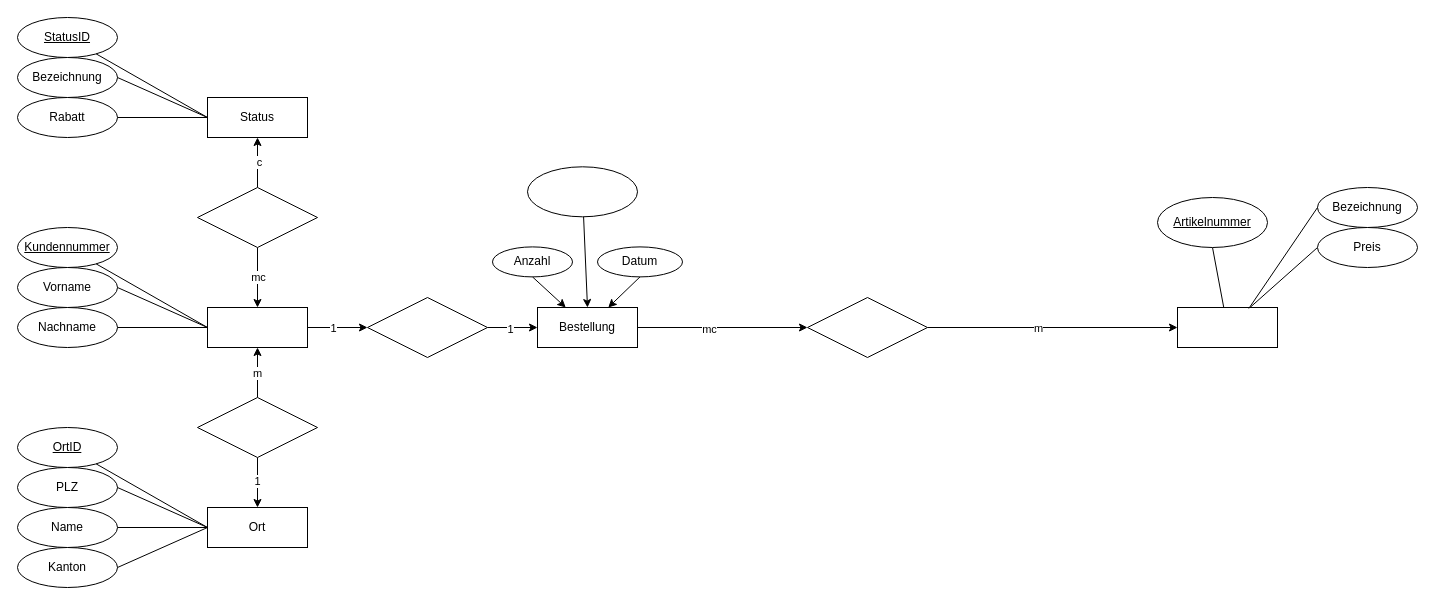
Image size: 1435x605. Some labels were removed from this diagram. The centre of each missing label's shape, as x and y in pixels:
"Artikel" goes at (x=1227, y=327).
"besteht aus" goes at (x=867, y=327).
"Bestellungsnummer" goes at (x=582, y=191).
"gibt auf" goes at (x=427, y=327).
"hat" goes at (x=257, y=217).
"Kunde" goes at (x=257, y=327).
"wohnt in" goes at (x=257, y=427).
